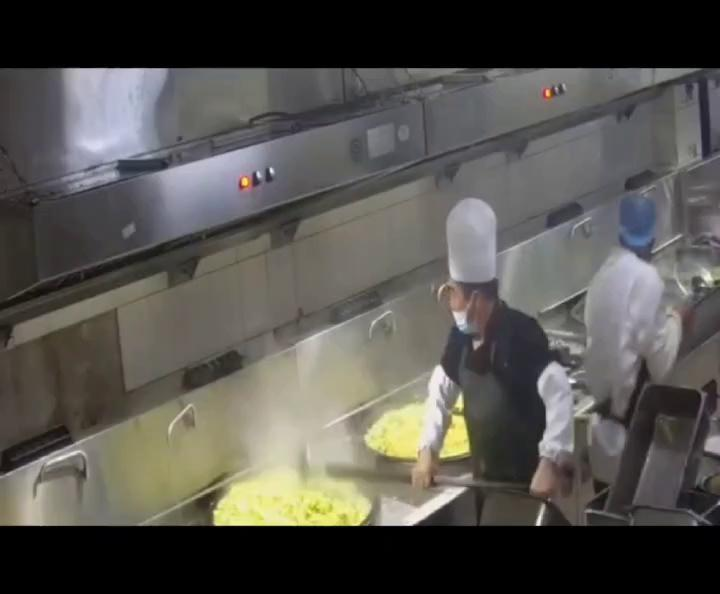mask: (446, 283, 482, 336)
